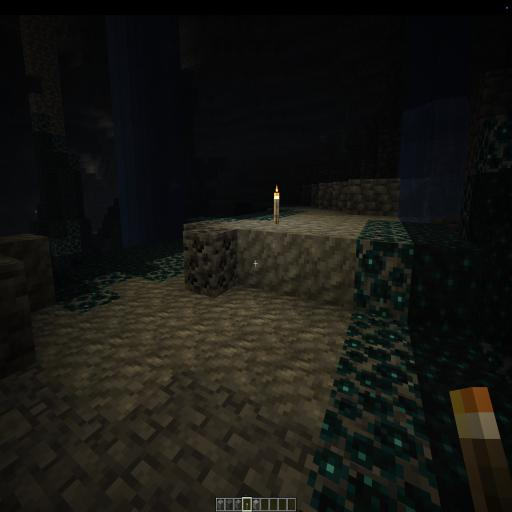coal ore: (184, 217, 238, 300)
